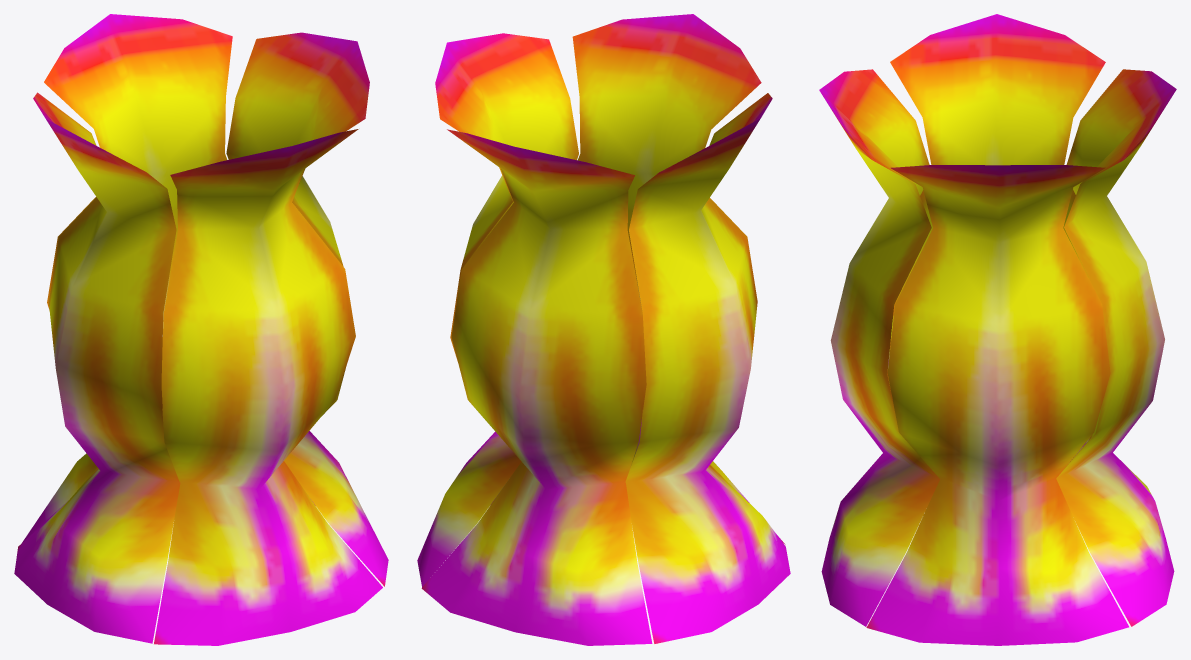
File: INST_TROLLHOLE_PLATPLANTTOP.obj
The picture shows the model from 3 angles, left to right: view 1: azimuth 30°, elevation 25°; view 2: azimuth 150°, elevation 25°; view 3: azimuth 270°, elevation 25°; orthographic projection.
Visible parts, largest first — view 1: lantTop_Lod1_01; view 2: lantTop_Lod1_01; view 3: lantTop_Lod1_01.
Boxes of the visible parts, x1,y1,x2,y2 form: lantTop_Lod1_01: (14,14,388,645); lantTop_Lod1_01: (417,14,790,645); lantTop_Lod1_01: (819,14,1176,645).
Size of the model in its own units: 52.37 by 77.82 by 52.37.
